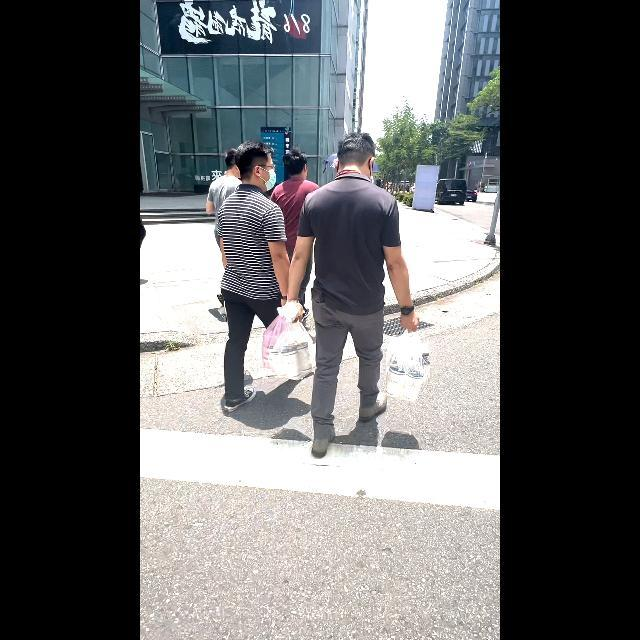sidewalk: (140, 446, 500, 511)
